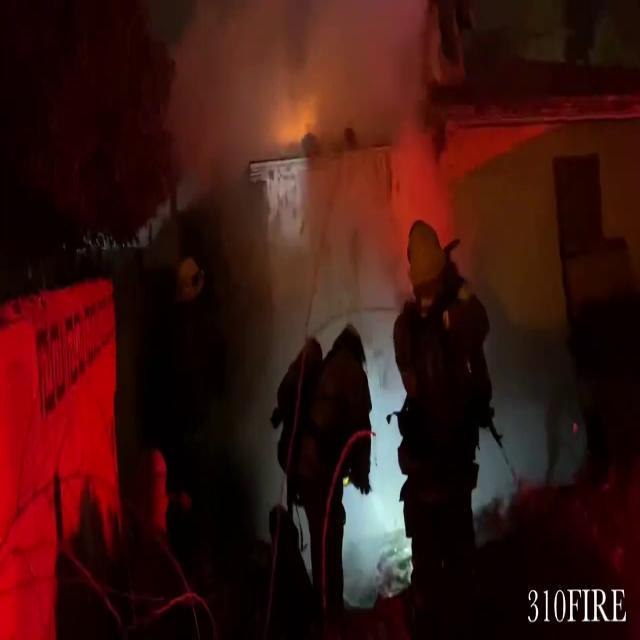Smoke: (169, 0, 452, 204)
